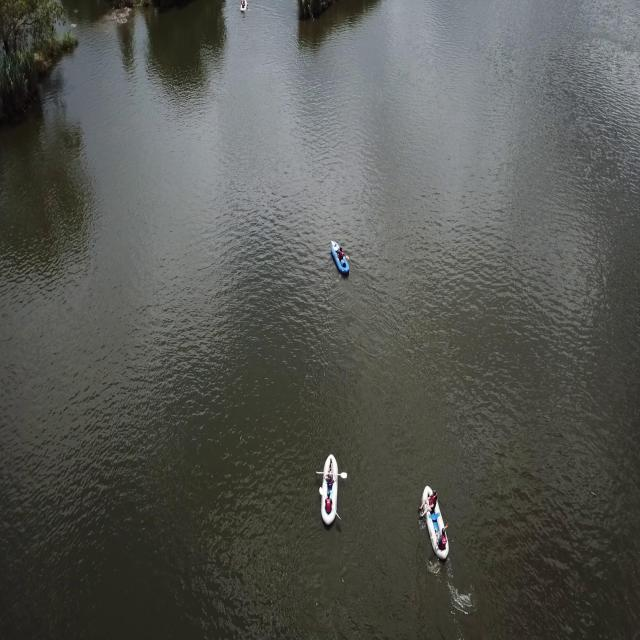kayak: (413, 479, 457, 580), (314, 445, 346, 534), (330, 240, 350, 282), (237, 0, 251, 17)
